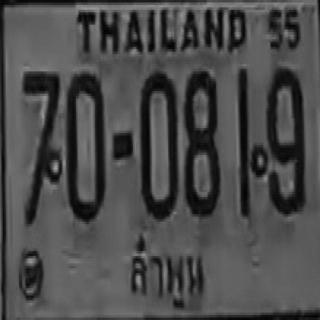N00: (65, 70, 104, 220), (140, 70, 178, 218)
N01: (237, 66, 251, 217)
N07: (21, 69, 59, 224), (21, 69, 59, 182)
N08: (185, 69, 221, 214)
N09: (266, 65, 306, 213)
P21: (123, 228, 212, 312)
